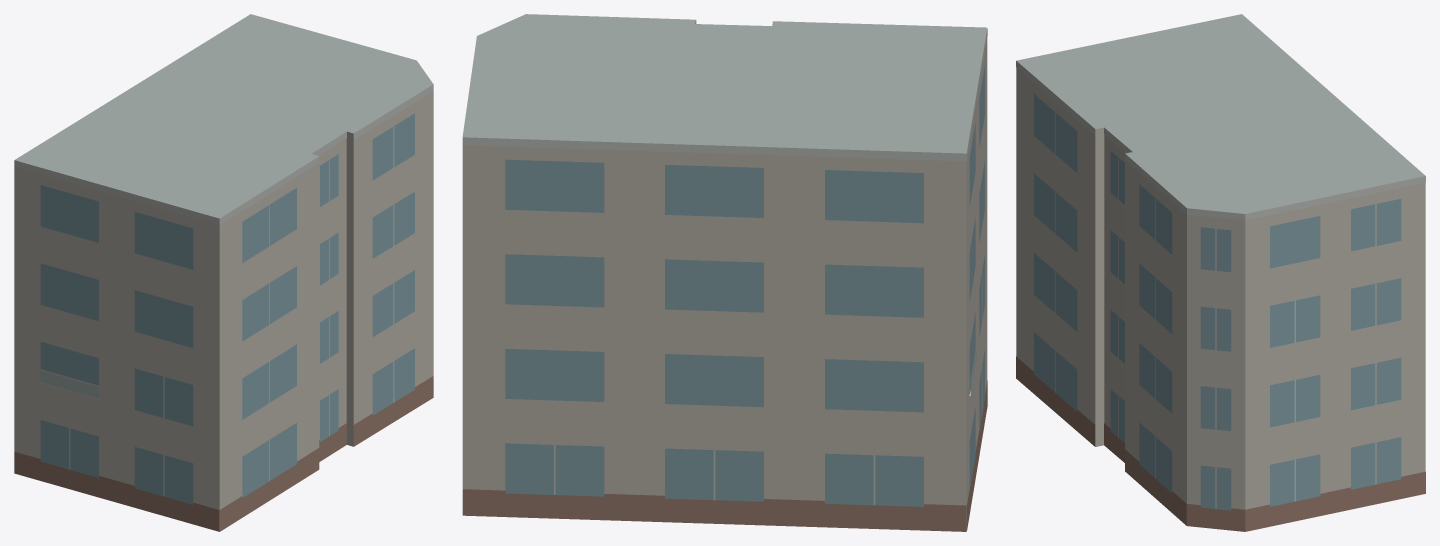
The model's file is survey-upis-32598905.glb.
3 renders of one model, left to right at view 1: azimuth 30°, elevation 25°; view 2: azimuth 150°, elevation 25°; view 3: azimuth 270°, elevation 25°, orthographic. The views are drawn at different scales.
Parts seen in each view (by area): view 1: survey-upis-32598905.tmp; view 2: survey-upis-32598905.tmp; view 3: survey-upis-32598905.tmp.
Boxes of the visible parts, <box> form: survey-upis-32598905.tmp: <box>14,14,433,531</box>; survey-upis-32598905.tmp: <box>462,14,987,531</box>; survey-upis-32598905.tmp: <box>1016,14,1425,531</box>.
Size of the model in its own units: 15.94 by 11.8 by 13.79.
